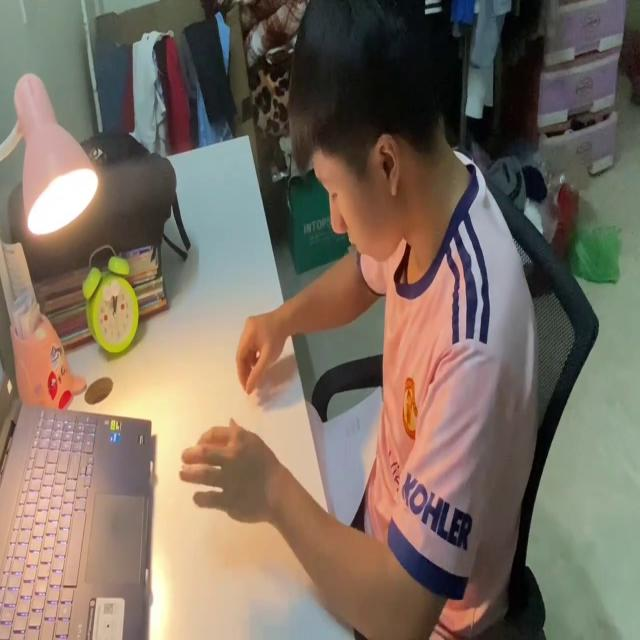book: (301, 376, 389, 524)
laptop: (0, 354, 154, 640)
student: (179, 0, 538, 640)
